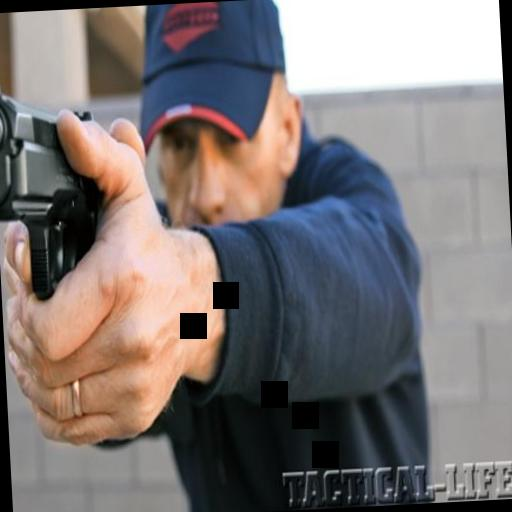Handgun: (0, 69, 115, 303)
